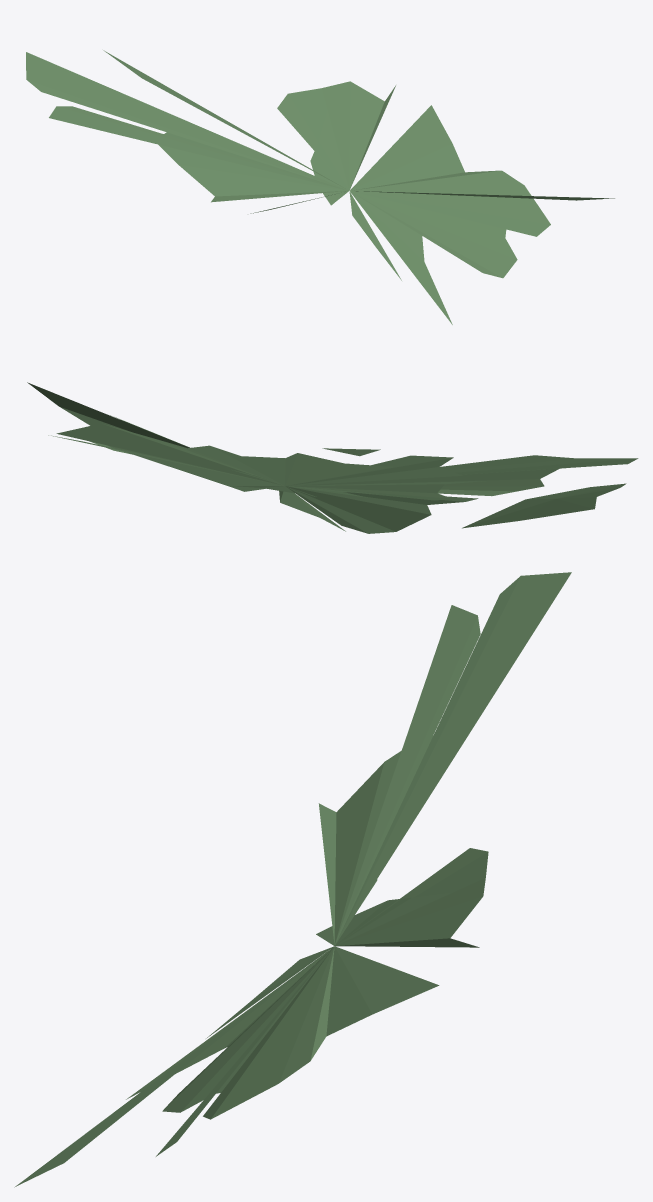
File: c_1666_17820_forest.glb
3 renders of one model, top to bottom at view 1: azimuth 30°, elevation 25°; view 2: azimuth 150°, elevation 25°; view 3: azimuth 270°, elevation 25°, orthographic. The views are drawn at different scales.
Visible parts, largest first — view 1: geometry_0; view 2: geometry_0; view 3: geometry_0.
Part boxes in pixels (x1=…): geometry_0: x1=26, y1=50, x2=614, y2=324; geometry_0: x1=27, y1=382, x2=638, y2=533; geometry_0: x1=14, y1=572, x2=571, y2=1187.
Bounding box in the file's own units: 306 × 143 × 223.
